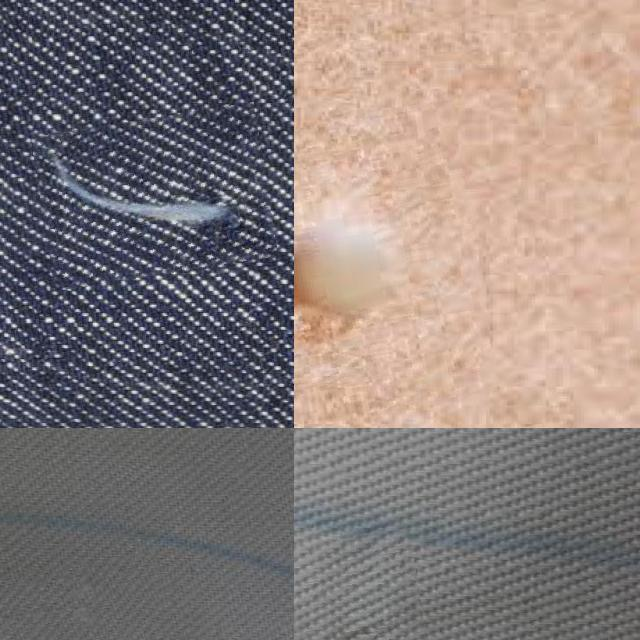Thread_other: (37, 110, 273, 282), (294, 531, 434, 640), (0, 565, 173, 640)
seam: (294, 108, 486, 423)
